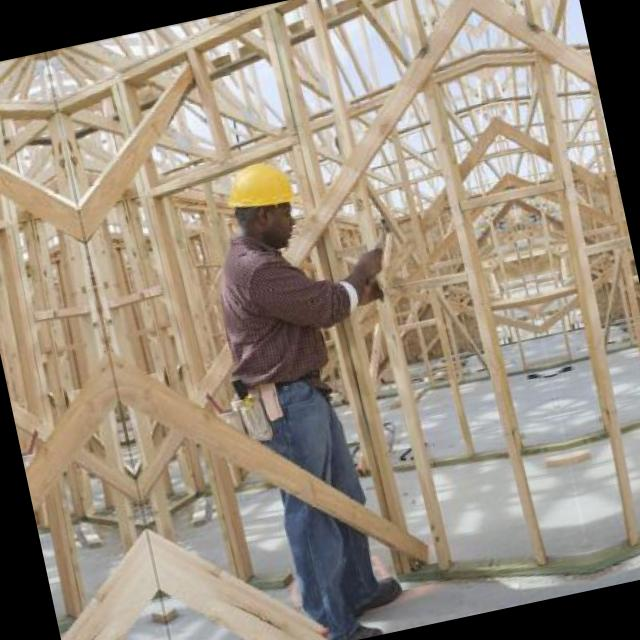helmet: (206, 144, 316, 257)
